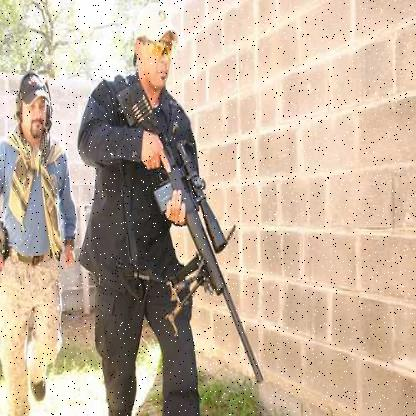rifle: (110, 83, 279, 399)
